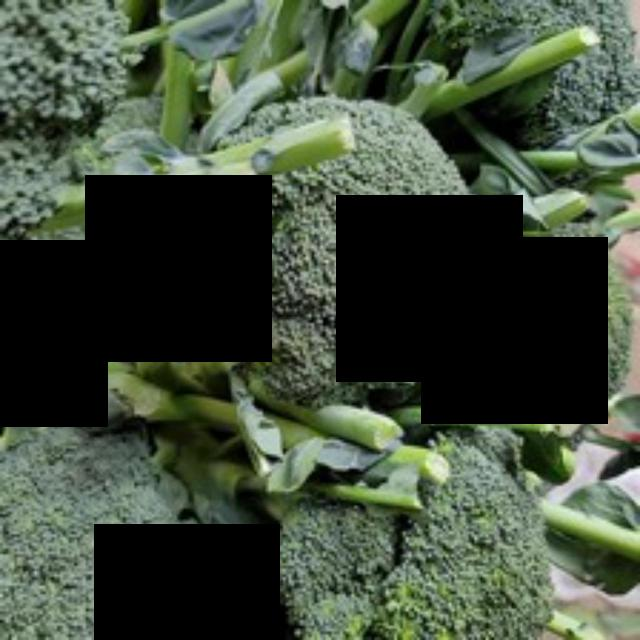broccoli: (156, 69, 473, 436)
